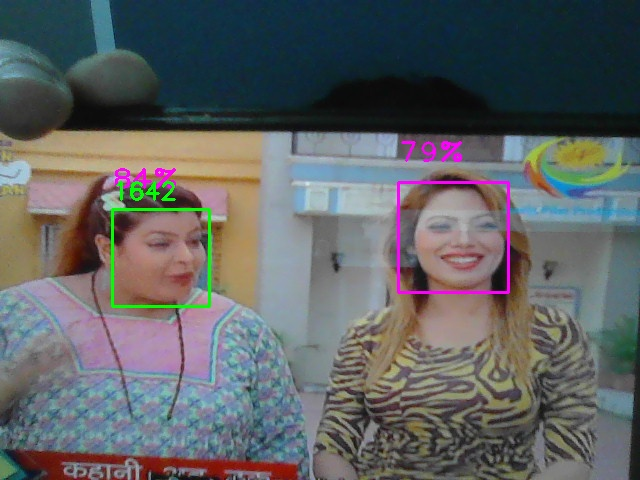fake: (112, 209, 210, 307)
